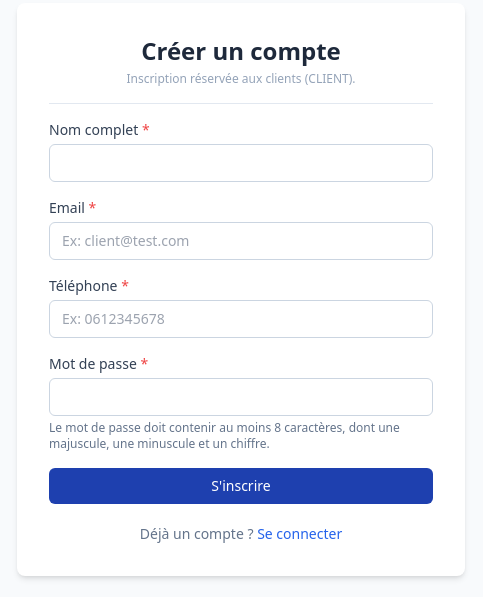
Test: RegisterPage - politique de mot de passe › affiche sous le champ l'erreur password renvoyee par le serveur
Type "Client Test" into the field labelled "Nom complet *".
click(241, 162); type("Client Test")  # box [49, 144, 433, 182]
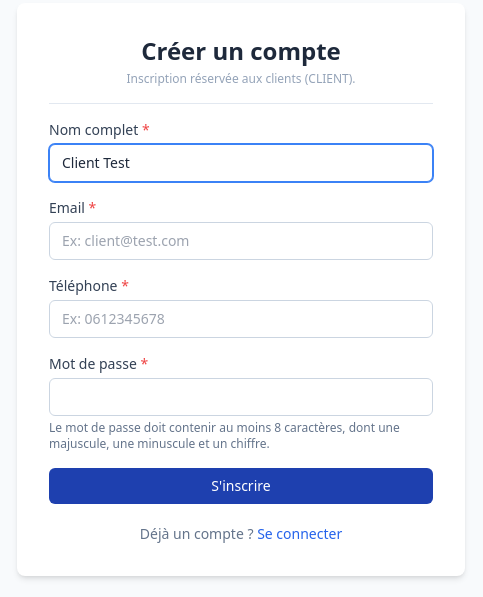
Type "client@test.com" into the field labelled "Email *".
click(241, 240); type("client@test.com")  # box [49, 222, 433, 260]
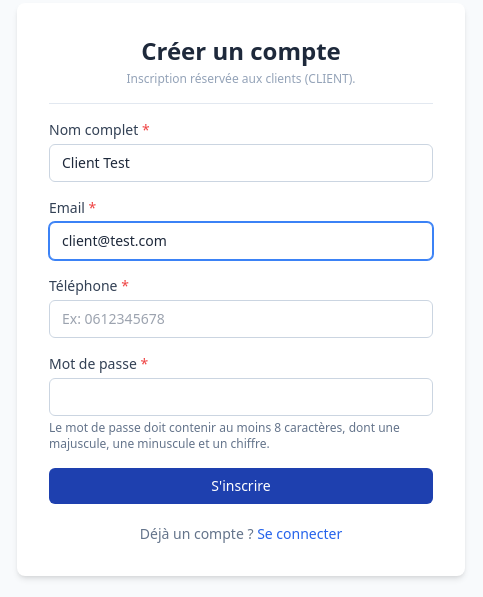
Type "0612345678" into the field labelled "Téléphone *".
click(241, 318); type("0612345678")  # box [49, 300, 433, 338]
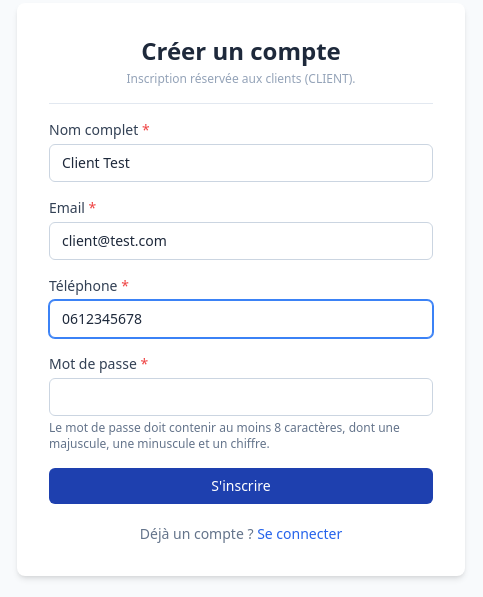
Type "Test1234" into the password field labelled "Mot de passe *".
click(241, 396); type("Test1234")  # box [49, 378, 433, 416]
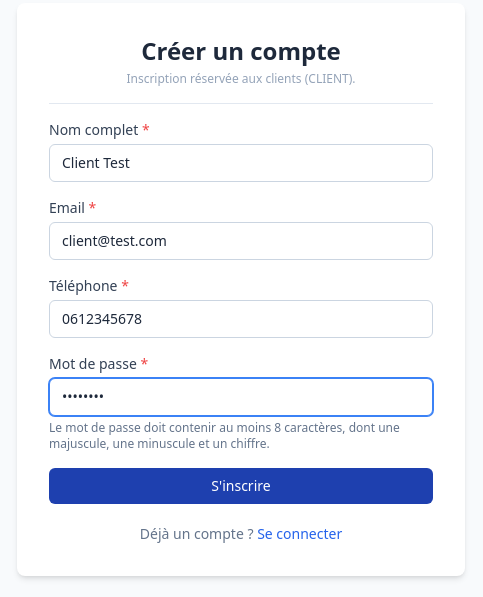
Click the button "S'inscrire".
click(241, 486)  # box [49, 468, 433, 504]
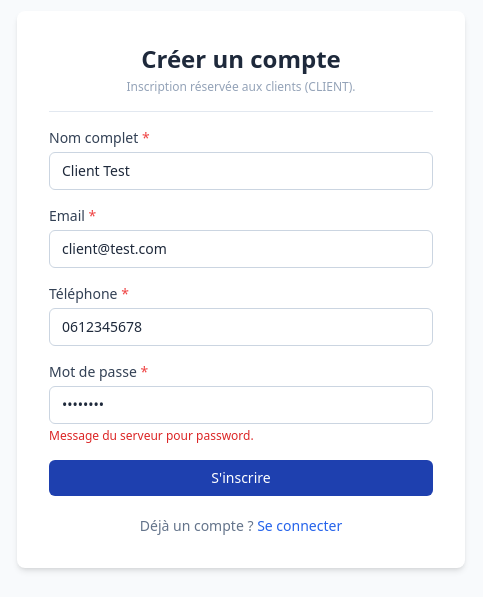
Expected: the message reads "Message du serveur pour password.", [49, 426, 254, 444]
Expected: the text "Le mot de passe doit contenir au moins 8 caractères, dont une majuscule, une minuscule et un chiffre." is gone
